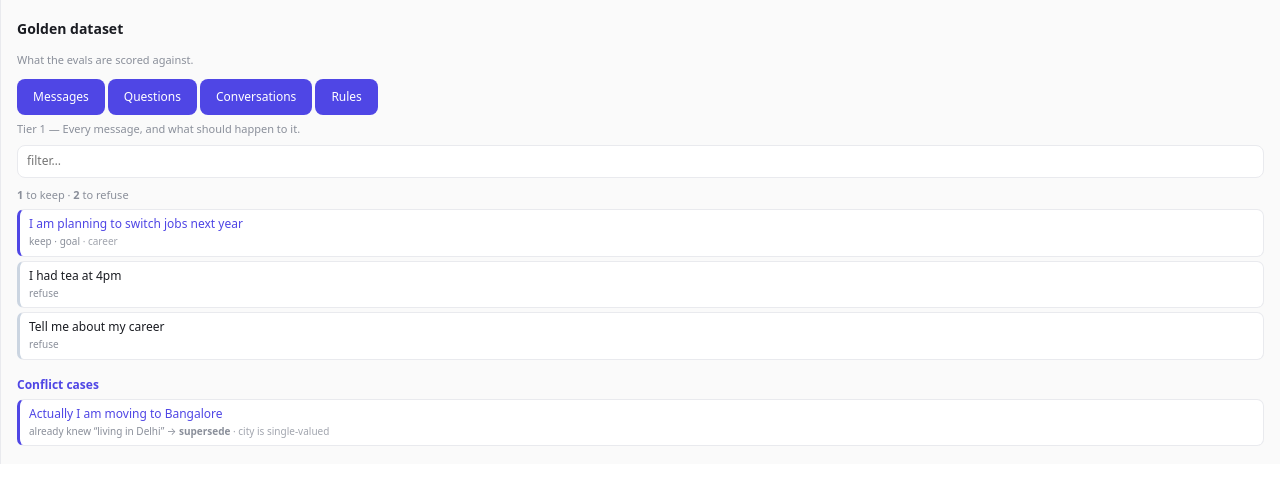
Test: spells out what each conversation turn should do
Click the button "Conversations" at (256, 97), box [200,79,312,115]
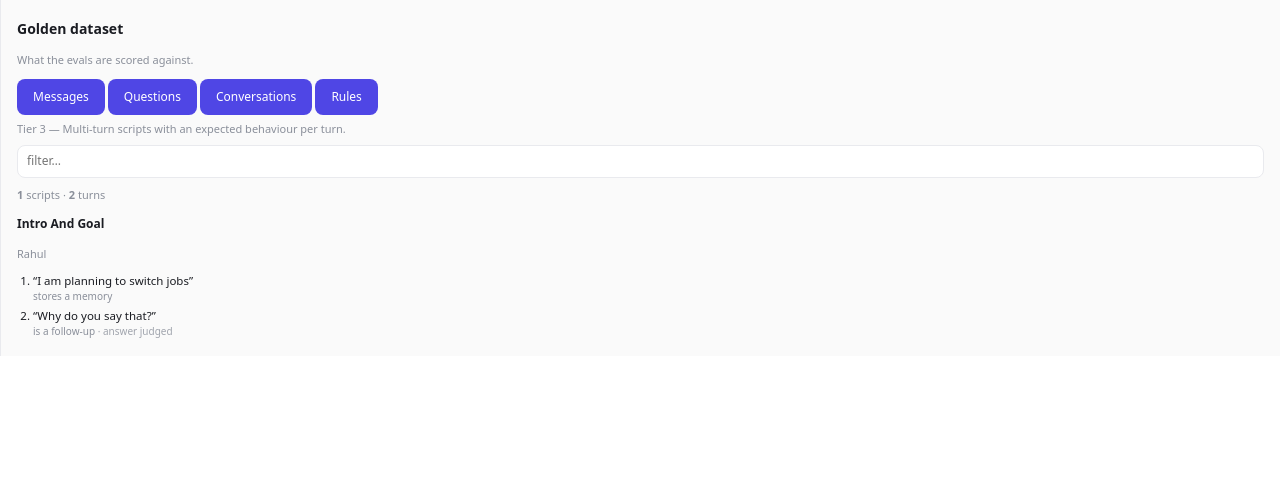
Result: the heading "intro and goal" is shown at [17,215,104,232]
Result: the text "stores a memory" is shown at [33,289,112,303]
Result: the text "is a follow-up · answer judged" is shown at [33,324,173,338]
